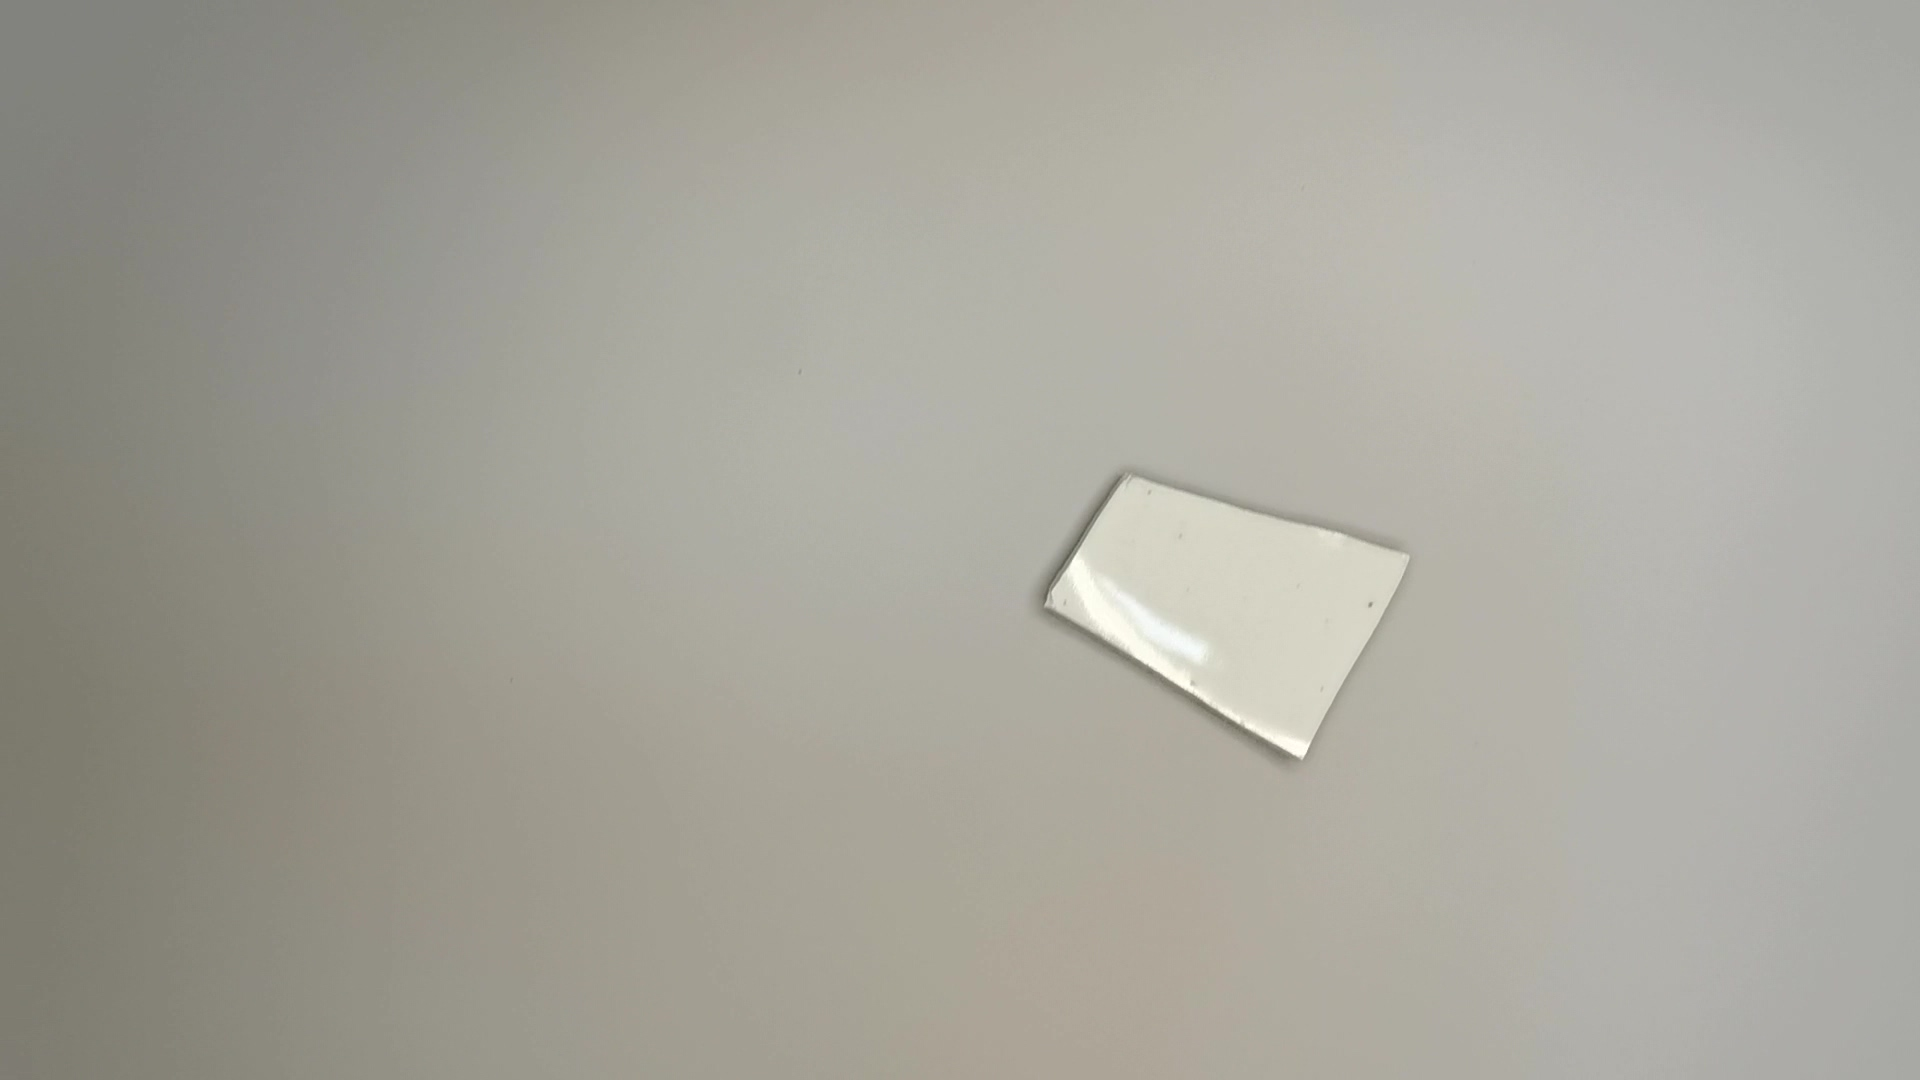ceramic: (1036, 464, 1418, 778)
